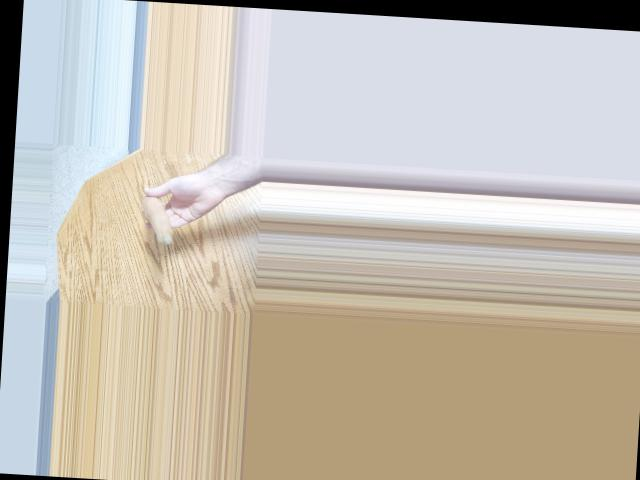sweet_potato: (140, 192, 178, 245)
